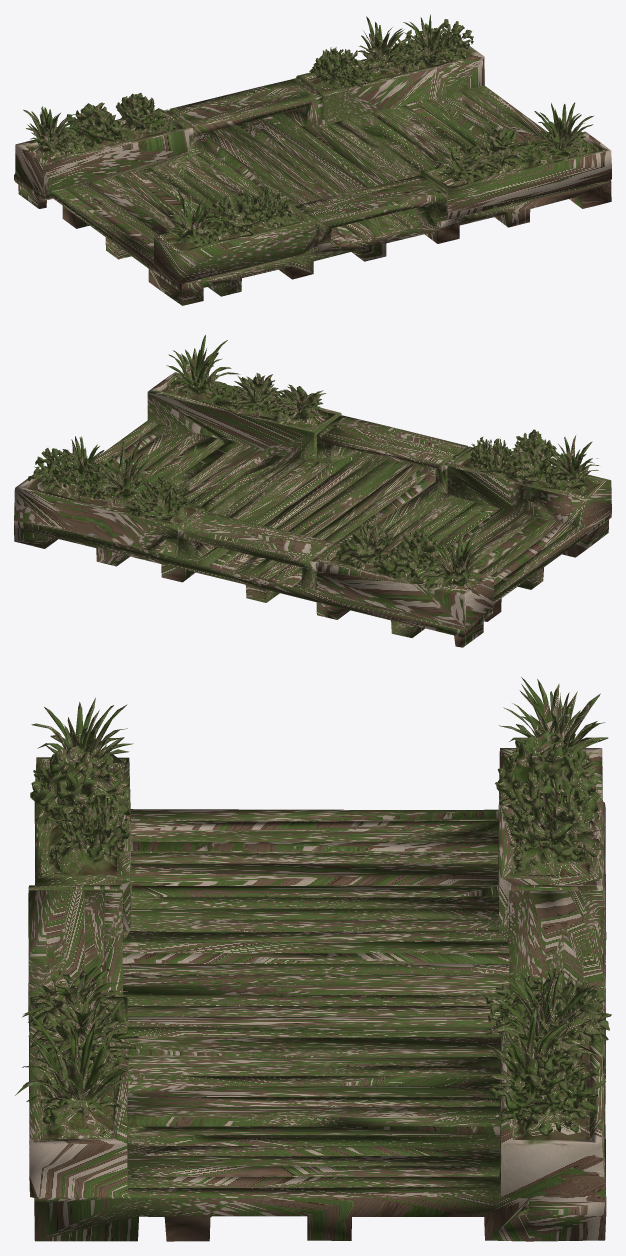
File: deckbench.glb
The picture shows the model from 3 angles, top to bottom: view 1: azimuth 30°, elevation 25°; view 2: azimuth 150°, elevation 25°; view 3: azimuth 270°, elevation 25°; orthographic projection. The views are drawn at different scales.
Bounding box in the file's own units: 1.9 × 0.4101 × 1.2.
Materials: 1 (1 with a texture image).
